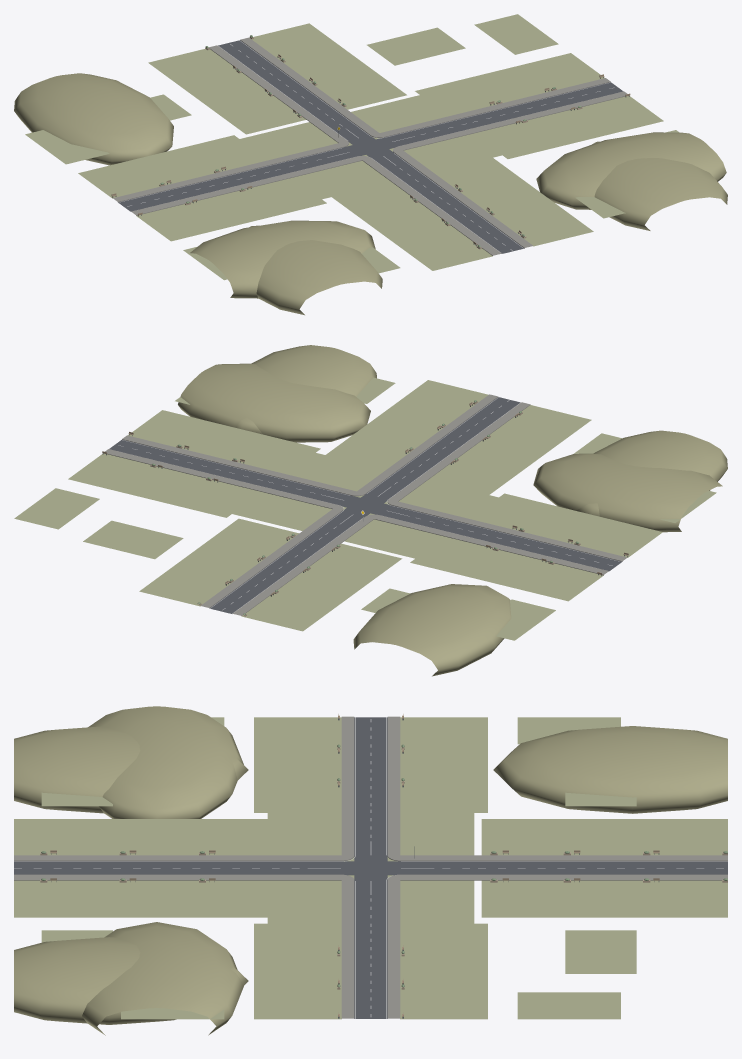
3 views of the same model, one above another, from view 1: azimuth 30°, elevation 25°; view 2: azimuth 150°, elevation 25°; view 3: azimuth 270°, elevation 25° (orthographic). The views are drawn at different scales.
Parts seen in each view (by area): view 1: static; view 2: static; view 3: static.
Part boxes in pixels (x1,y1,x2,y2): static: (14, 14, 727, 315); static: (14, 345, 727, 676); static: (14, 706, 727, 1035).
Size of what is drawn, in the model's own units: 180 by 14.08 by 180.
Materials: 3 (2 with a texture image).
